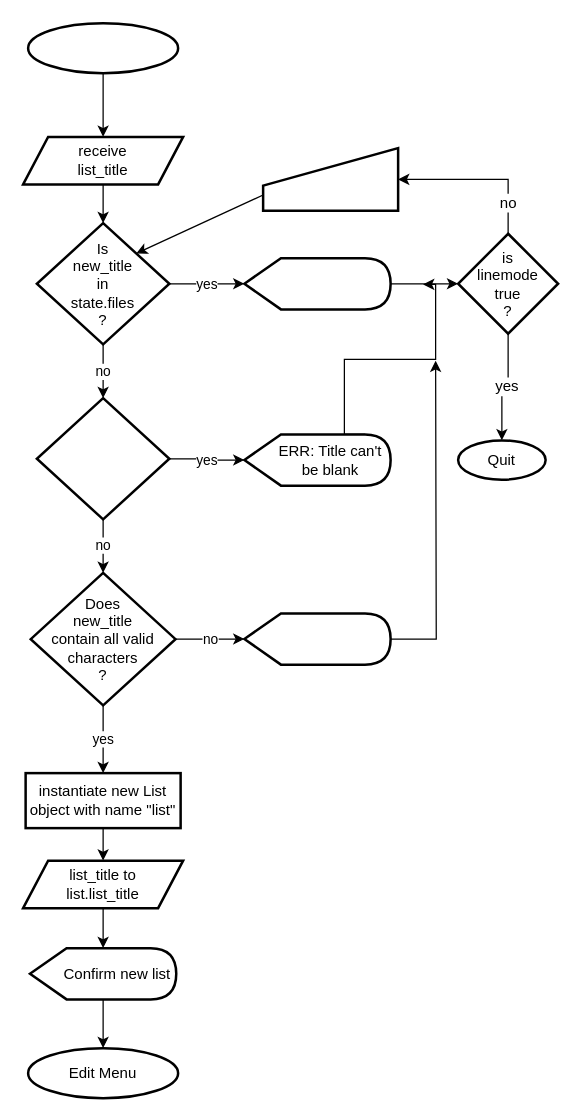
This 580x1120 diagram has some shape labels left out. The shapes that lost their labels are listed below. From the top down, each one's centre as x and y in pixels, then its label:
At point (102, 47): "Main Menu".
At point (330, 178): "new_title".
At point (316, 283): "ERR: List already exists".
At point (102, 458): "Is new_title blank?".
At point (316, 638): "ERR: Invalid Characters".
